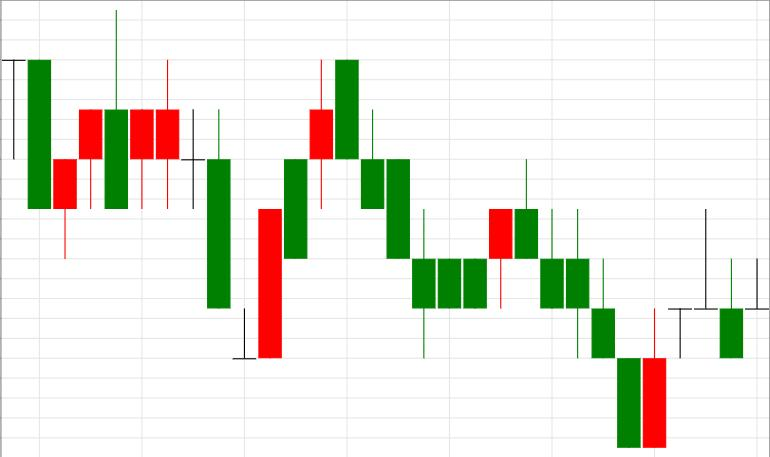bullish_engulfing_rise: (515, 158, 666, 448)
